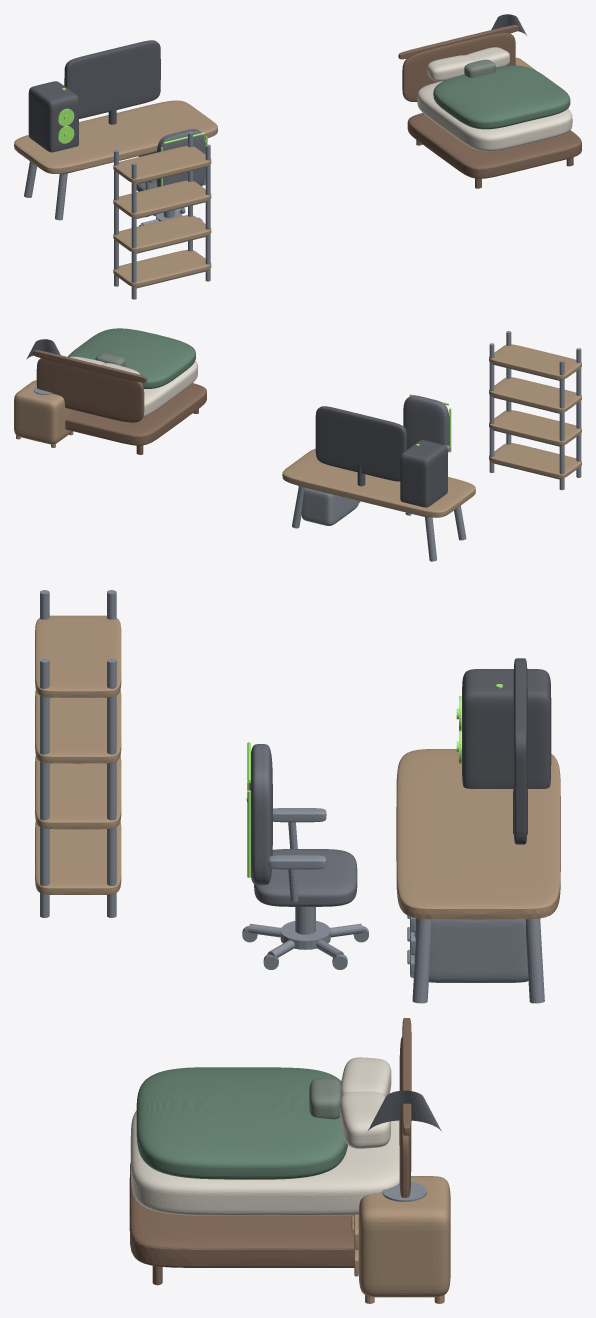
Rendered from original-room-major.glb.
The picture shows the model from 3 angles, top to bottom: view 1: azimuth 30°, elevation 25°; view 2: azimuth 150°, elevation 25°; view 3: azimuth 270°, elevation 25°; orthographic projection. The views are drawn at different scales.
Parts seen in each view (by area): view 1: shelf_wood_high_12, bed_platform_p4_0, desk_top_high_6, duvet_p4_2, monitor_high_15, mattress_high_1, pc_case_high_16, shelf_frame_high_11, chair_cushions_high_9, pillow_p4_0_3, desk_frame_high_7, pillow_p4_1_4 (+3 smaller); view 2: bed_platform_p4_0, shelf_wood_high_12, monitor_high_15, desk_top_high_6, duvet_p4_2, pc_case_high_16, nightstand_high_13, shelf_frame_high_11, desk_frame_high_7, chair_cushions_high_9, mattress_high_1, lamp_high_14; view 3: desk_top_high_6, duvet_p4_2, shelf_wood_high_12, bed_platform_p4_0, mattress_high_1, nightstand_high_13, desk_frame_high_7, pc_case_high_16, chair_cushions_high_9, chair_frame_high_8, shelf_frame_high_11, monitor_high_15 (+4 smaller).
Part boxes in pixels (x1=…): shelf_wood_high_12: x1=113, y1=145, x2=211, y2=286; bed_platform_p4_0: x1=398, y1=25, x2=581, y2=188; desk_top_high_6: x1=14, y1=100, x2=217, y2=173; duvet_p4_2: x1=433, y1=65, x2=570, y2=129; monitor_high_15: x1=64, y1=40, x2=160, y2=124; mattress_high_1: x1=417, y1=81, x2=572, y2=151; pc_case_high_16: x1=28, y1=81, x2=78, y2=152; shelf_frame_high_11: x1=114, y1=131, x2=210, y2=299; chair_cushions_high_9: x1=136, y1=129, x2=205, y2=191; pillow_p4_0_3: x1=427, y1=55, x2=473, y2=81; desk_frame_high_7: x1=24, y1=151, x2=205, y2=220; pillow_p4_1_4: x1=466, y1=47, x2=509, y2=67; bed_platform_p4_0: x1=33, y1=350, x2=206, y2=454; shelf_wood_high_12: x1=489, y1=344, x2=581, y2=478; monitor_high_15: x1=315, y1=406, x2=406, y2=486; desk_top_high_6: x1=282, y1=448, x2=475, y2=517; duvet_p4_2: x1=68, y1=328, x2=195, y2=388; pc_case_high_16: x1=400, y1=440, x2=447, y2=507; nightstand_high_13: x1=14, y1=380, x2=74, y2=447; shelf_frame_high_11: x1=489, y1=331, x2=581, y2=490; desk_frame_high_7: x1=292, y1=486, x2=466, y2=561; chair_cushions_high_9: x1=403, y1=395, x2=449, y2=452; mattress_high_1: x1=143, y1=361, x2=197, y2=417; lamp_high_14: x1=26, y1=339, x2=60, y2=394; desk_top_high_6: x1=396, y1=749, x2=560, y2=919; duvet_p4_2: x1=136, y1=1067, x2=347, y2=1179; shelf_wood_high_12: x1=35, y1=615, x2=121, y2=894; bed_platform_p4_0: x1=129, y1=1018, x2=411, y2=1285; mattress_high_1: x1=130, y1=1110, x2=399, y2=1215; nightstand_high_13: x1=351, y1=1176, x2=450, y2=1303; desk_frame_high_7: x1=407, y1=915, x2=544, y2=1003; pc_case_high_16: x1=462, y1=669, x2=551, y2=788; chair_cushions_high_9: x1=249, y1=744, x2=357, y2=906; chair_frame_high_8: x1=242, y1=798, x2=368, y2=969; shelf_frame_high_11: x1=40, y1=590, x2=116, y2=917; monitor_high_15: x1=513, y1=658, x2=527, y2=844.
Size of the model in its own units: 7.77 by 2.06 by 3.77.
